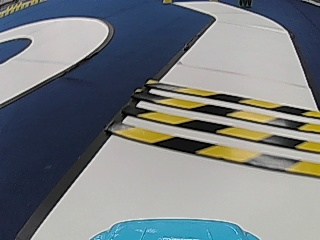bump: (110, 78, 319, 178)
